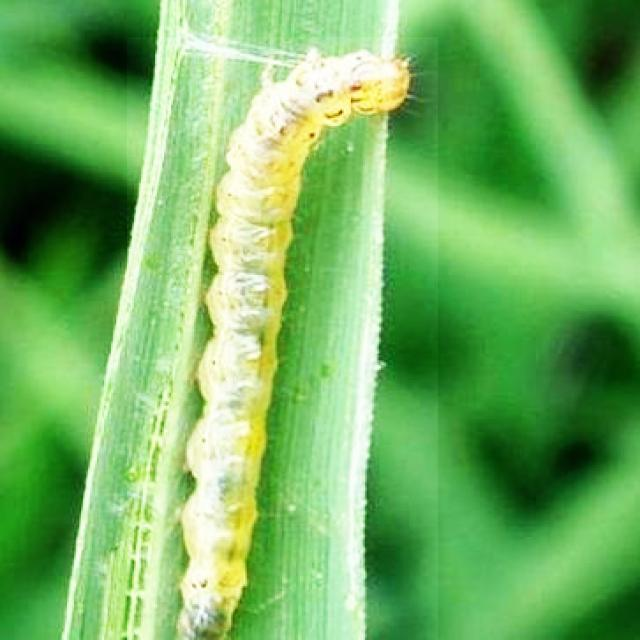leaf-folder: (127, 37, 438, 640)
